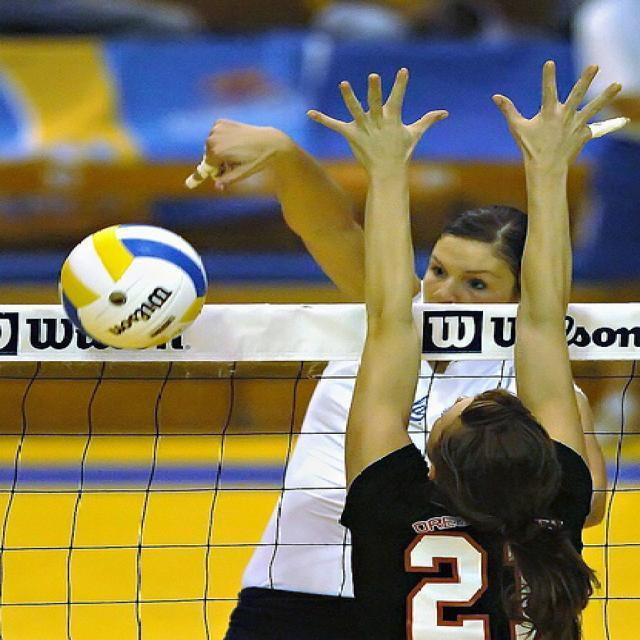volleyball: (58, 223, 208, 349)
